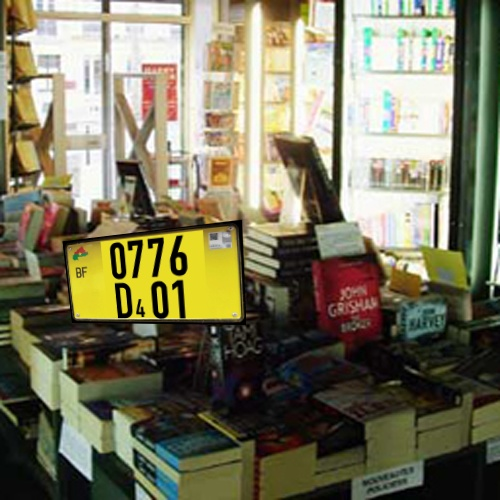plate: (51, 216, 257, 331)
